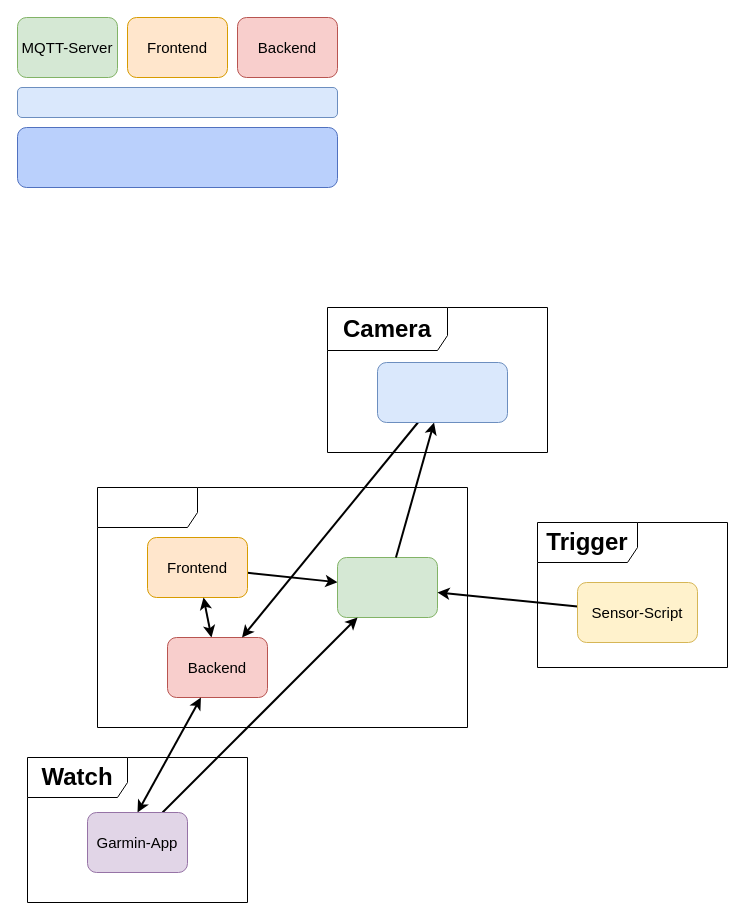
The diagram is 745 pixels wide and 920 high, and some of its shapes have lost their labels. Here are the shapes that lost their labels. From the top down, the box of each, then its label:
(16, 86, 338, 118): Docker
(16, 126, 338, 188): Raspberry Pi 4 Model B
(376, 362, 508, 422): Camera-Script
(96, 486, 468, 728): Server
(336, 556, 438, 618): MQTT
